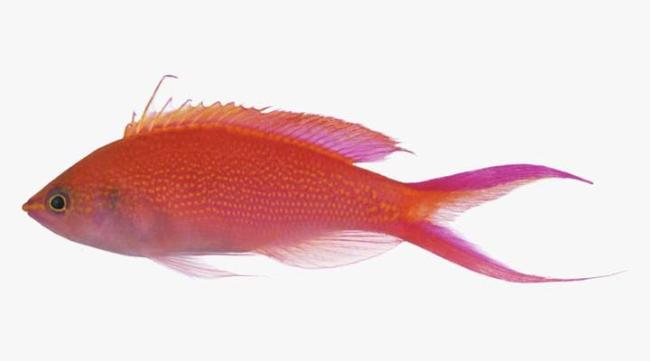fish: (22, 73, 626, 283)
